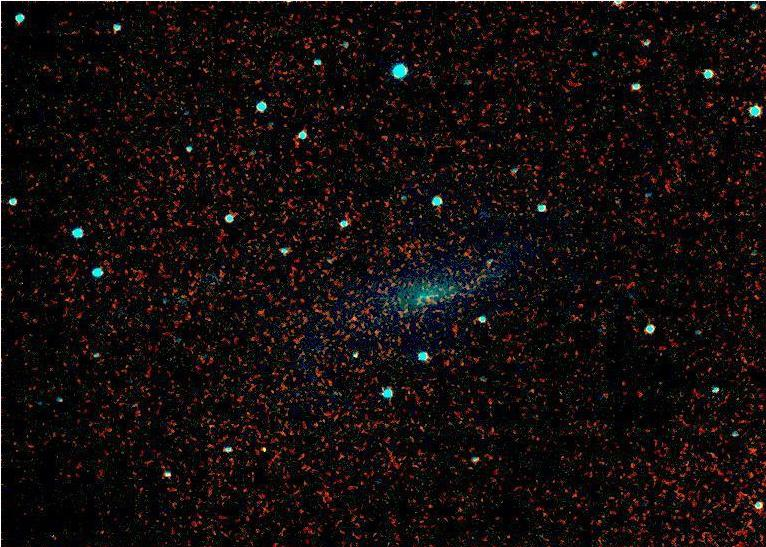star: (339, 307, 369, 337)
